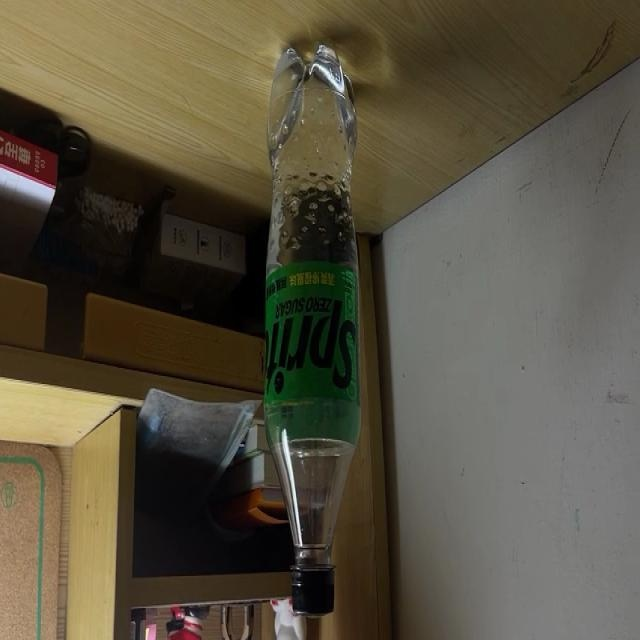Sprite: (262, 40, 364, 618)
